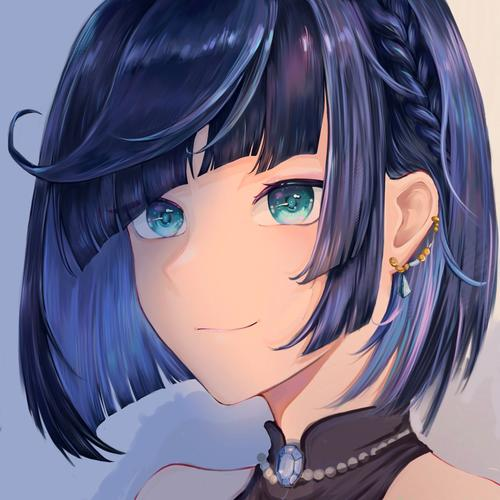夜兰: (17, 1, 499, 500)
